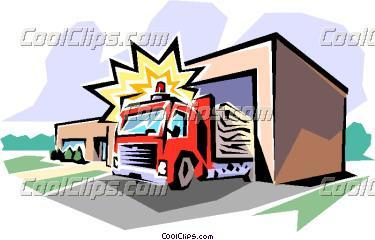car: (107, 87, 255, 191)
